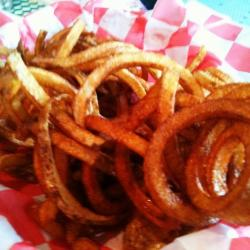fries: (18, 51, 197, 221)
